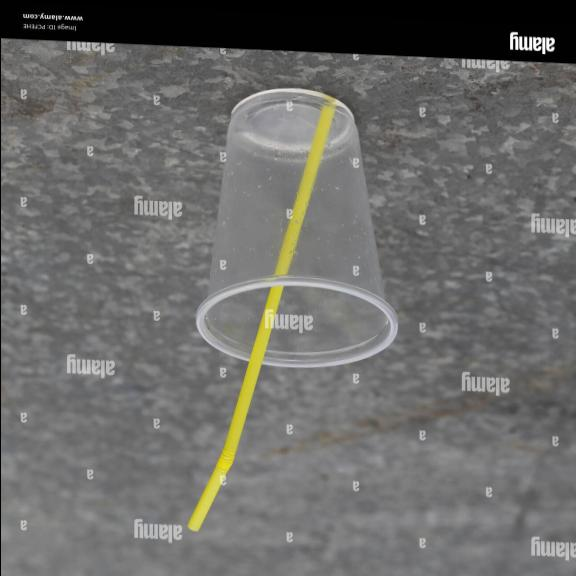Plastik: (196, 88, 396, 366)
